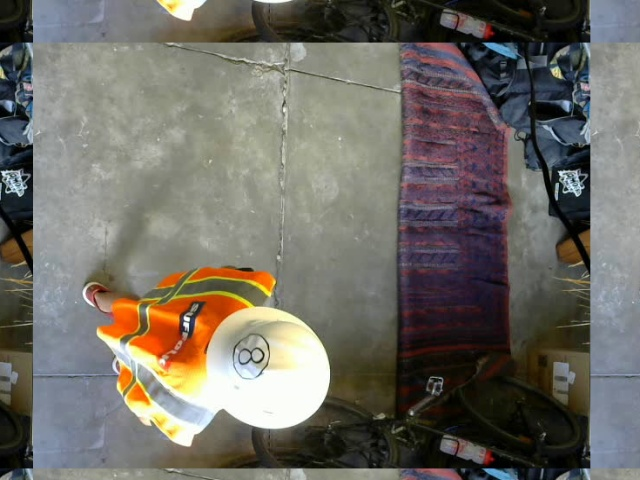eight: (232, 331, 269, 380)
